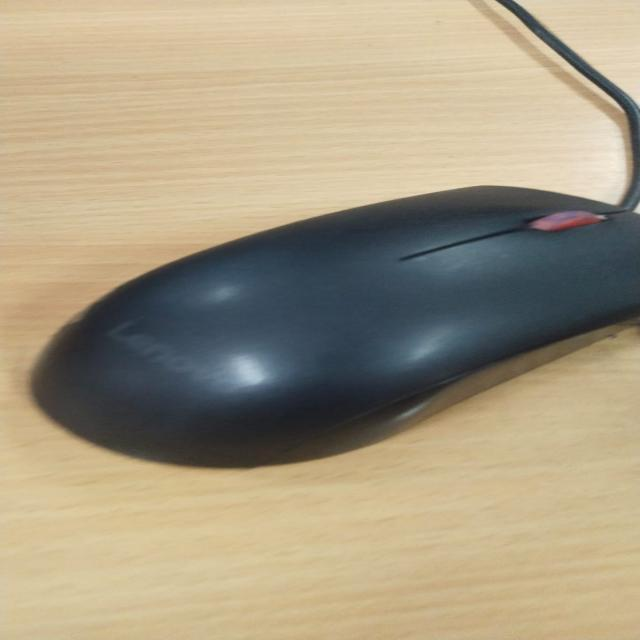mouse: (103, 38, 639, 640)
